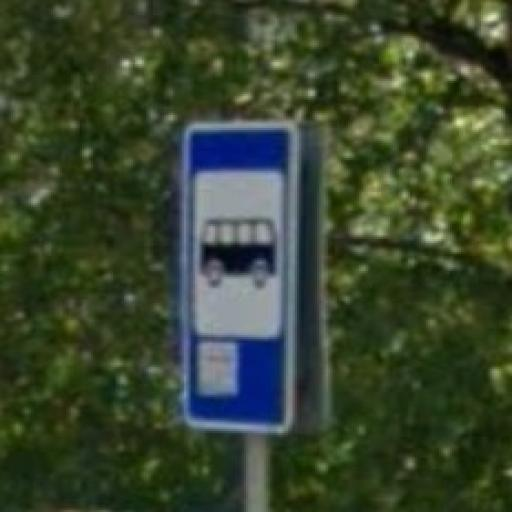traffic_sign: (181, 125, 305, 436)
